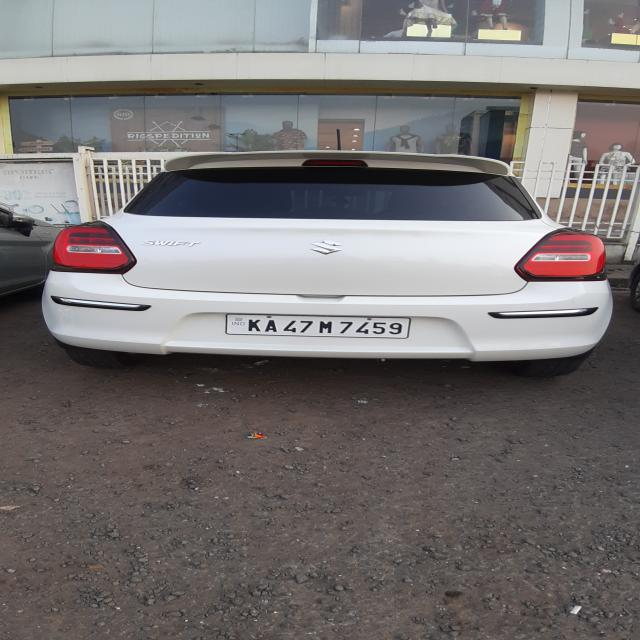Number-Plate: (228, 315, 408, 337)
